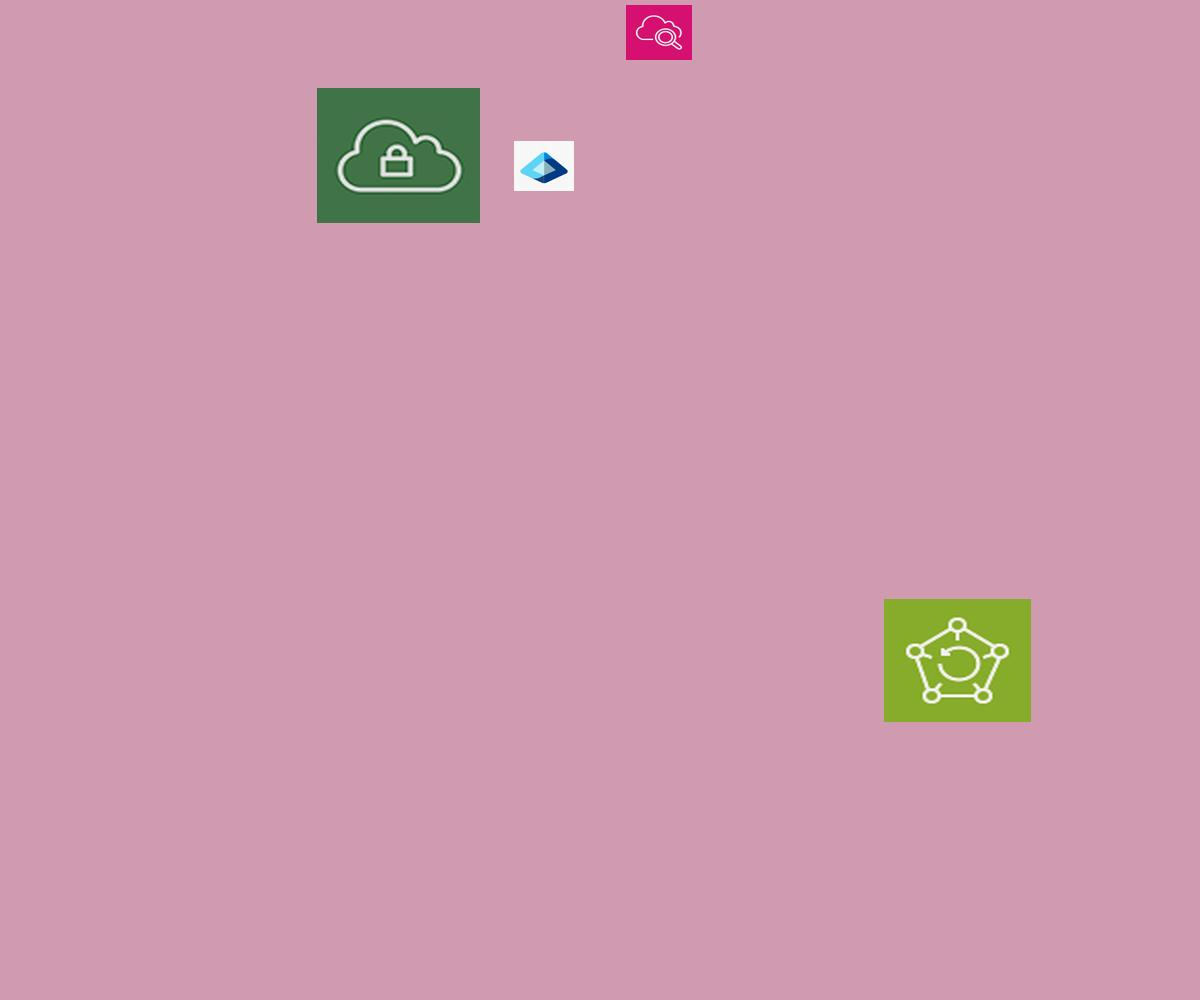AWS-Backup: (884, 599, 1031, 722)
AWS-CloudWatch: (626, 5, 692, 60)
AWS-Private_vpc: (317, 88, 480, 223)
Azure_microsoft_entra: (514, 141, 574, 191)
